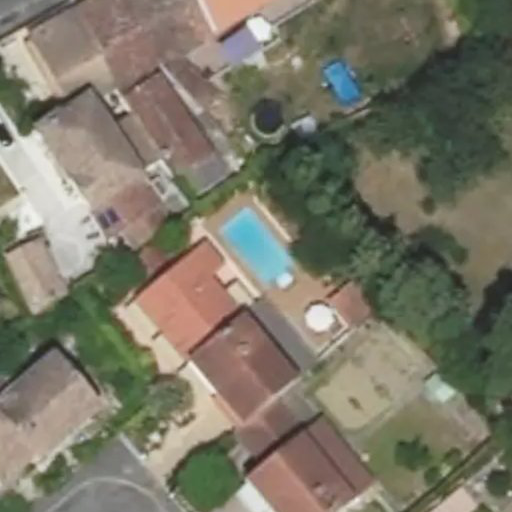pool: (215, 224, 296, 259)
